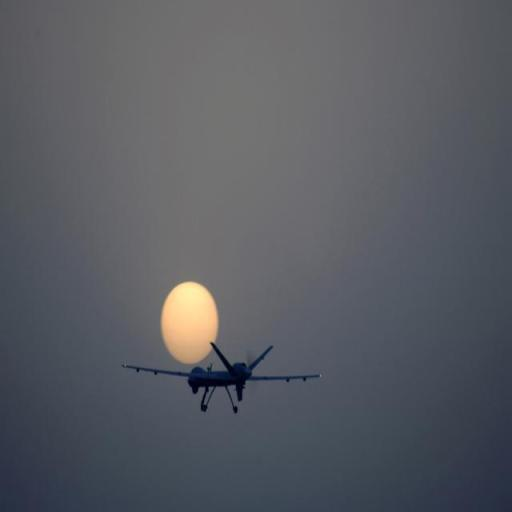uav: (106, 336, 326, 418)
